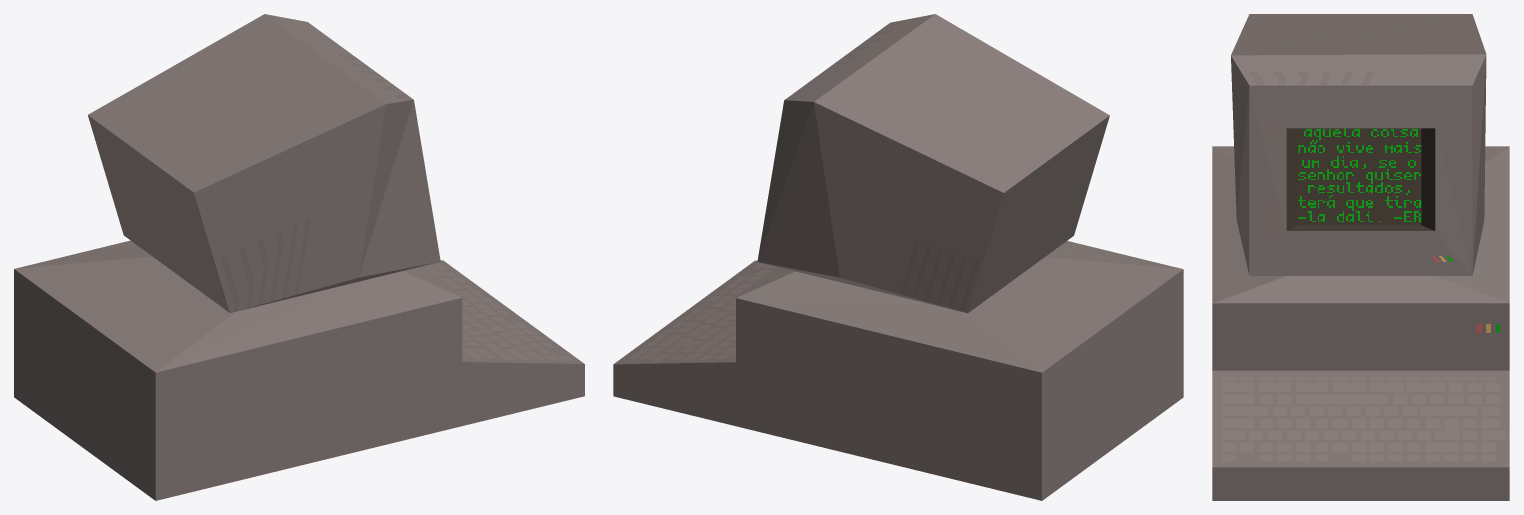
Rendered from computer.glb.
The picture shows the model from 3 angles, left to right: view 1: azimuth 30°, elevation 25°; view 2: azimuth 150°, elevation 25°; view 3: azimuth 270°, elevation 25°; orthographic projection. The views are drawn at different scales.
Parts seen in each view (by area): view 1: Mesh_0.034; view 2: Mesh_0.034; view 3: Mesh_0.034.
Boxes of the visible parts, bbox=[...] form: Mesh_0.034: bbox=[14, 14, 584, 500]; Mesh_0.034: bbox=[613, 14, 1183, 500]; Mesh_0.034: bbox=[1212, 14, 1509, 500].
Bounding box in the file's own units: 3.5 × 2.59 × 2.
Materials: 1 (1 with a texture image).
